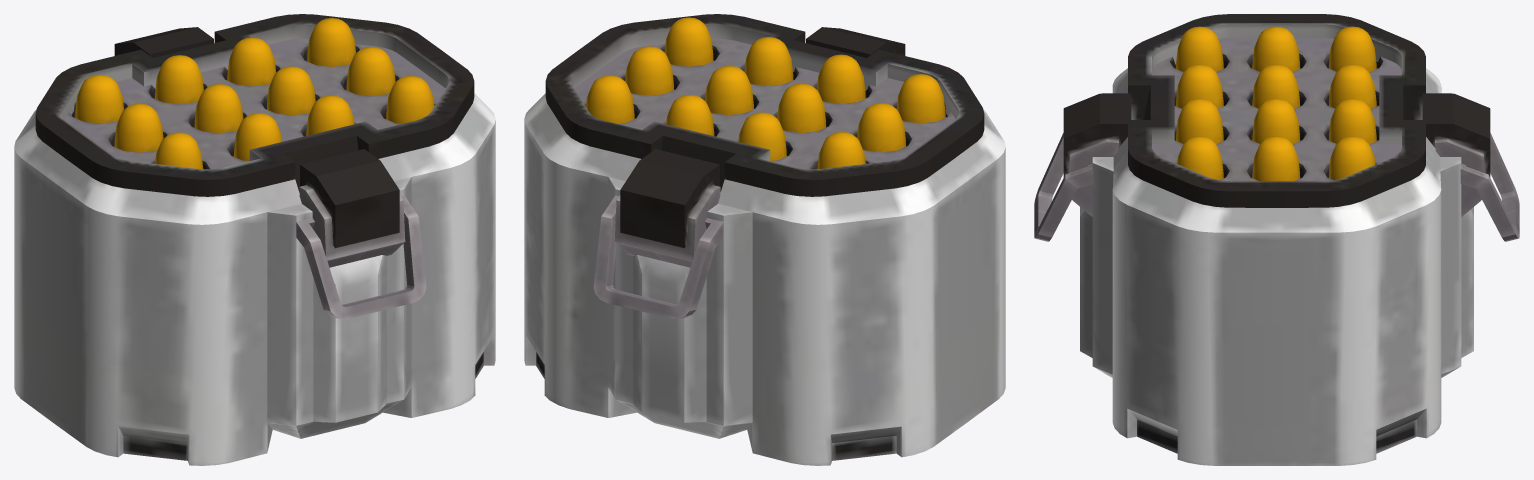
File: Prop_Ammo_Small.glb
3 views of the same model, side by side, from view 1: azimuth 30°, elevation 25°; view 2: azimuth 150°, elevation 25°; view 3: azimuth 270°, elevation 25° (orthographic). The views are drawn at different scales.
Visible parts, largest first — view 1: Prop_Ammo_Small; view 2: Prop_Ammo_Small; view 3: Prop_Ammo_Small.
Boxes of the visible parts, box(x1,y1,x2,y2) form: Prop_Ammo_Small: box(14, 14, 495, 465); Prop_Ammo_Small: box(524, 14, 1005, 465); Prop_Ammo_Small: box(1034, 14, 1519, 465).
Size of the model in its own units: 0.4023 by 0.2834 by 0.4338.
1 material, 1 textured.
